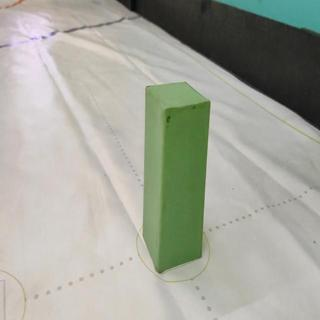greenbox: (144, 80, 213, 277)
